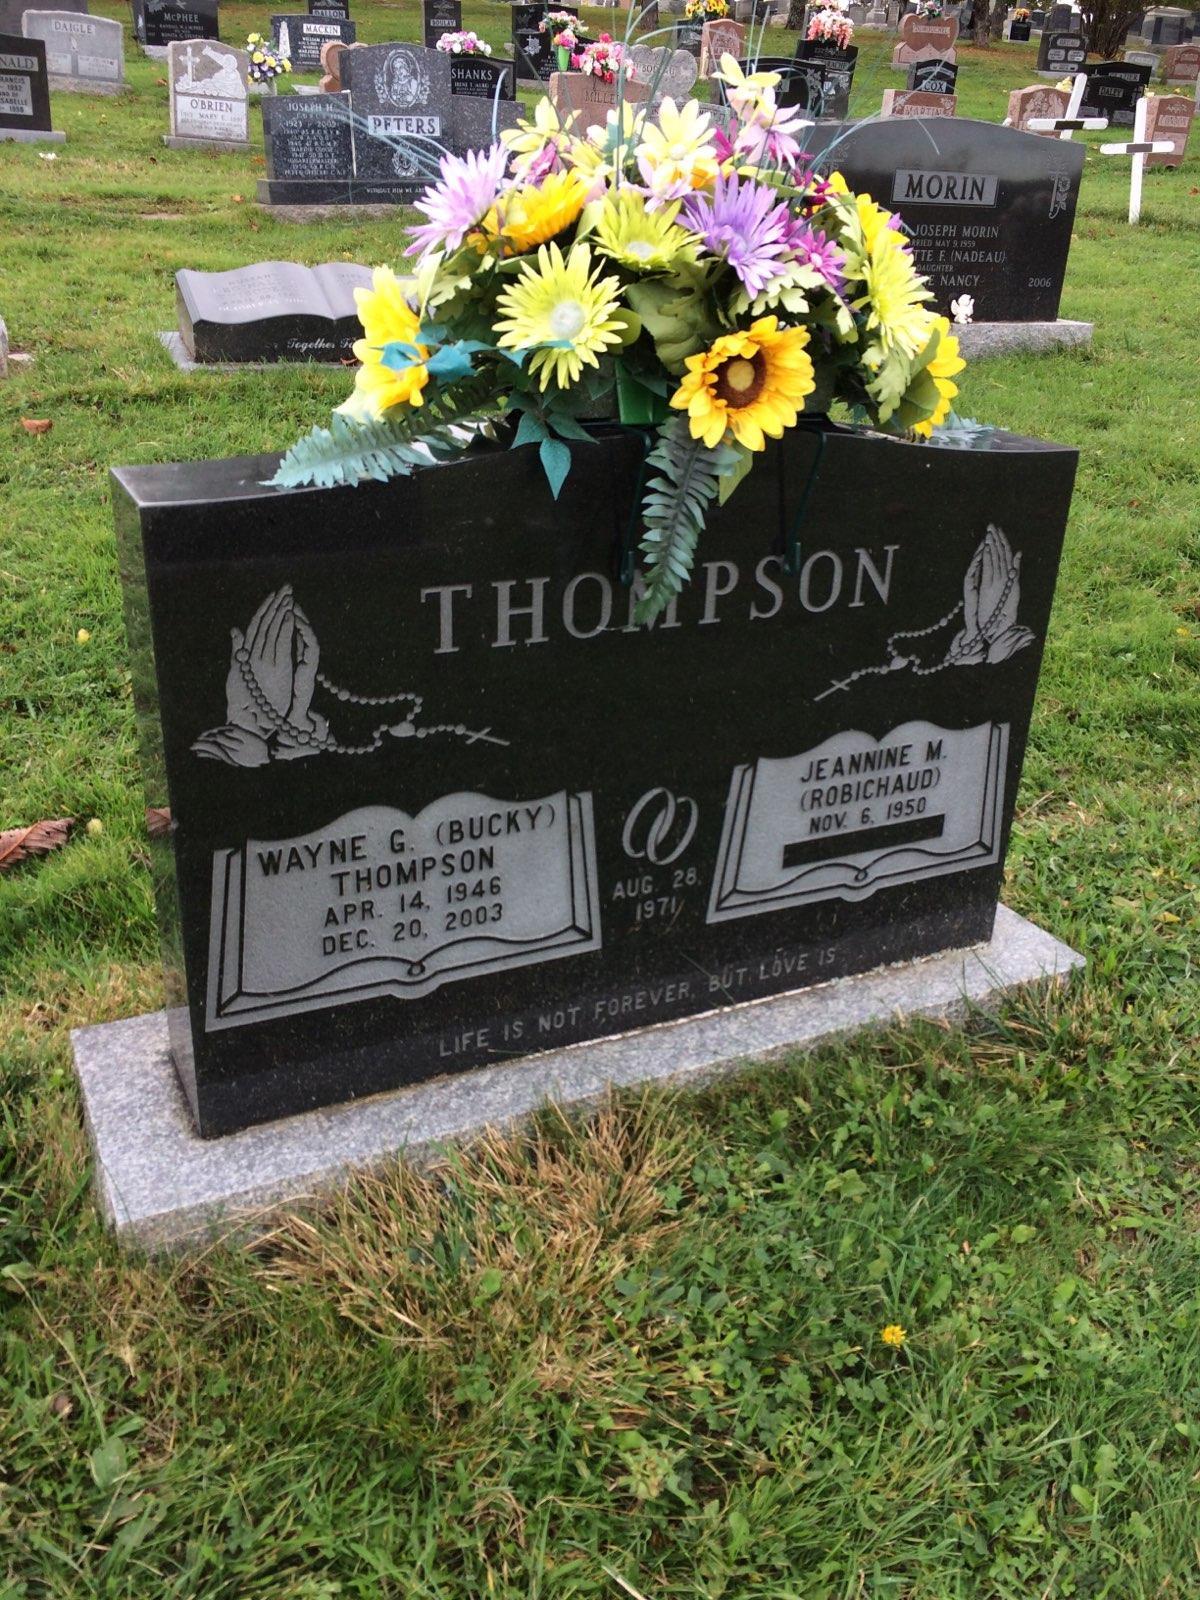upright: (84, 391, 1097, 1237)
